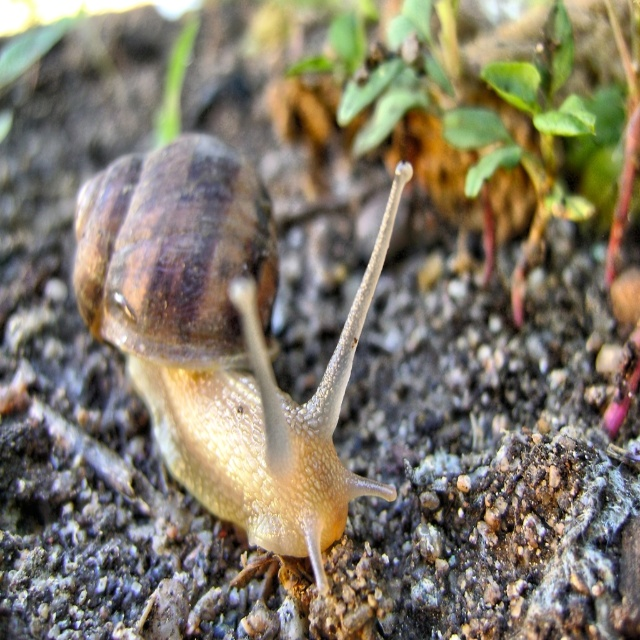Snail: (72, 118, 417, 599)
